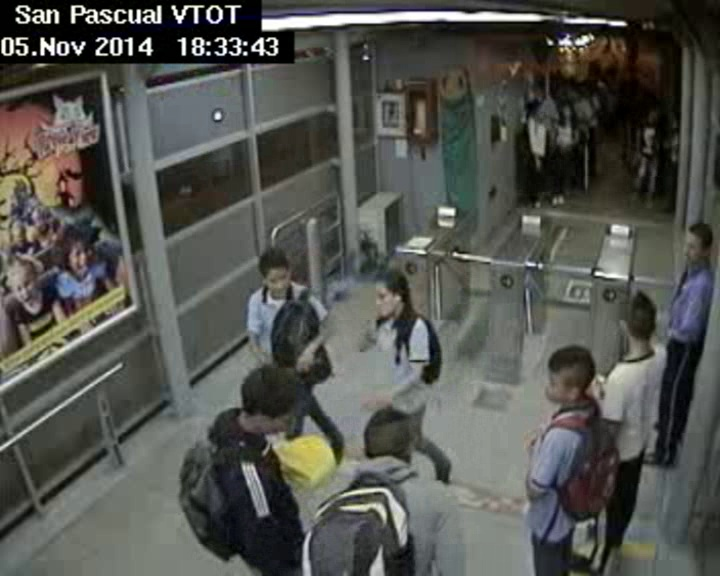person: (227, 359, 305, 436), (360, 407, 423, 465), (546, 343, 595, 409), (620, 285, 668, 352), (366, 267, 424, 320), (671, 213, 715, 267), (252, 238, 296, 286), (530, 99, 545, 123), (645, 107, 660, 120), (560, 102, 572, 116)
